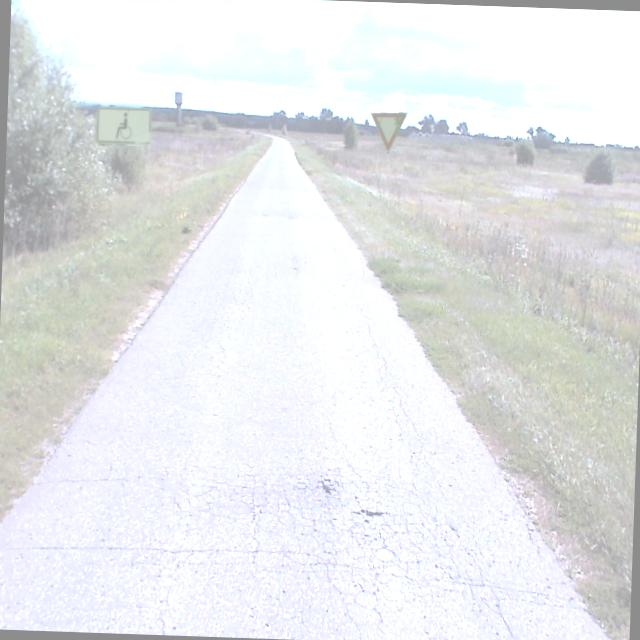road: (0, 137, 609, 640)
